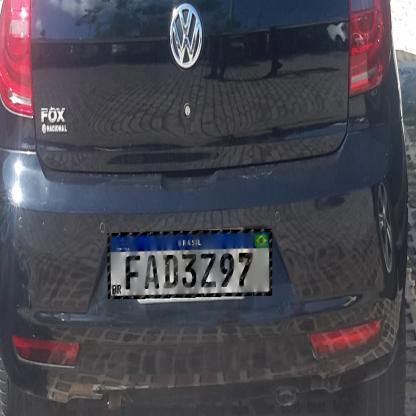PlacaM: (108, 229, 272, 299)
